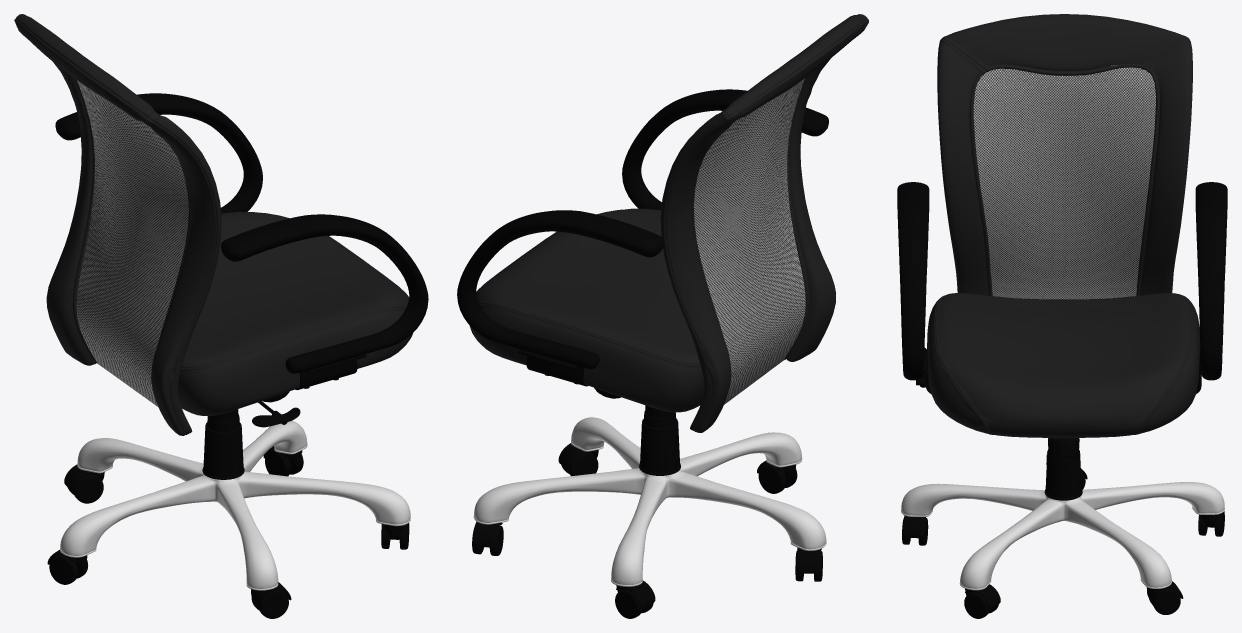
File: chair-transformed.glb
The picture shows the model from 3 angles, left to right: view 1: azimuth 30°, elevation 25°; view 2: azimuth 150°, elevation 25°; view 3: azimuth 270°, elevation 25°; orthographic projection. The views are drawn at different scales.
Visible parts, largest first — view 1: Box02, Box01, Rectangle02, Line04, Line05, Cylinder01, Rectangle11, Cylinder24, Cylinder25, Cylinder02, Cylinder19; view 2: Box02, Box01, Rectangle02, Line05, Line04, Cylinder01, Rectangle11, Cylinder24, Cylinder02, Cylinder22, Cylinder26, Cylinder20; view 3: Box02, Box01, Rectangle02, Line05, Line04, Cylinder01, Cylinder03, Cylinder19, Cylinder22, Cylinder23.
Boxes of the visible parts, x1,y1,x2,y2 form: Box02: (14,14,221,435); Box01: (177,212,412,415); Rectangle02: (60,421,410,590); Line04: (221,214,428,373); Line05: (55,93,262,213); Cylinder01: (202,409,244,479); Rectangle11: (295,354,366,390); Cylinder24: (251,589,288,618); Cylinder25: (49,555,88,584); Cylinder02: (67,474,103,503); Cylinder19: (265,449,303,476); Box02: (660,14,868,432); Box01: (470,208,704,412); Rectangle02: (473,417,826,586); Line05: (457,210,663,369); Line04: (622,89,828,210); Cylinder01: (639,405,680,475); Rectangle11: (518,349,588,386); Cylinder24: (758,464,797,493); Cylinder02: (615,589,653,618); Cylinder22: (561,452,598,476); Cylinder26: (796,547,821,573); Cylinder20: (472,521,502,547); Box02: (937,14,1192,299); Box01: (927,292,1200,437); Rectangle02: (901,452,1224,590); Line05: (1195,182,1227,380); Line04: (897,182,929,380); Cylinder01: (1044,450,1082,500); Cylinder03: (1048,438,1079,457); Cylinder19: (1149,588,1180,614); Cylinder22: (964,592,998,618); Cylinder23: (902,515,925,538).
Size of the model in its own units: 65.25 by 102 by 63.69.
5 materials, 1 textured.
